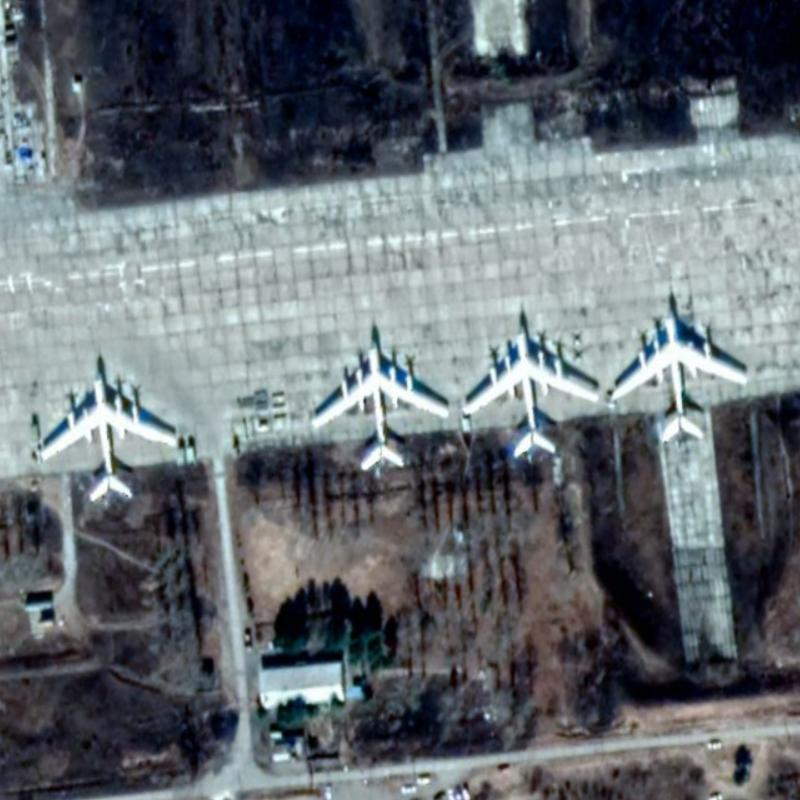A17: (608, 305, 749, 443), (459, 322, 600, 459), (37, 369, 180, 504), (309, 337, 451, 471)
